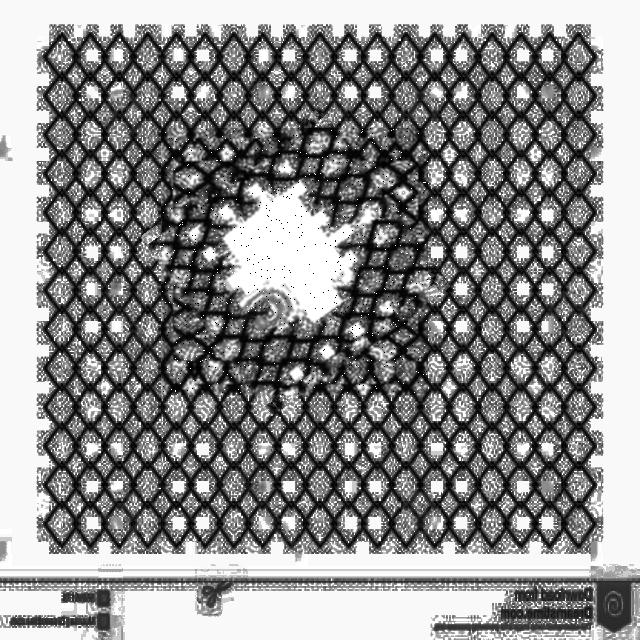anomaly-fence: (162, 128, 428, 395)
